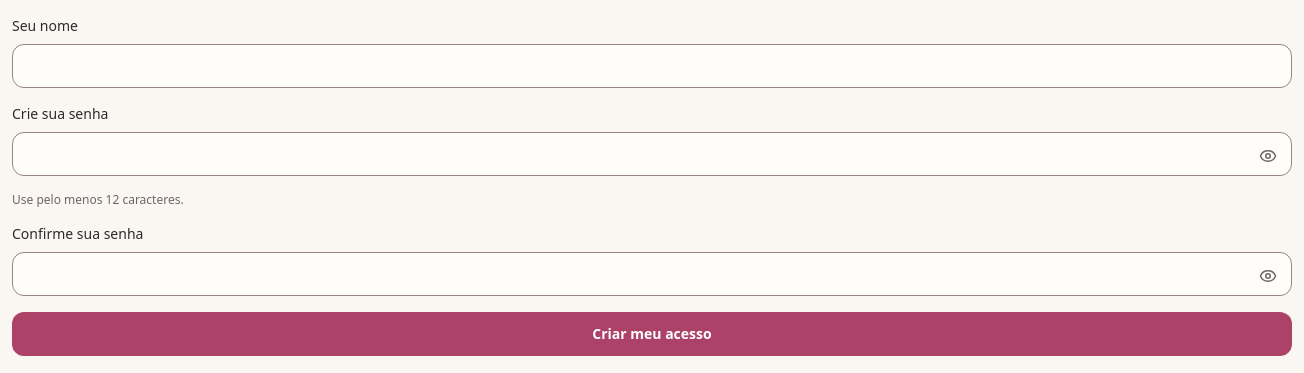
Test: limites e estados adicionais › aceite mostra sucesso e pede login explícito
The image size is (1304, 373).
In the field labelled "Seu nome": (652, 66) [12,44,1292,88], type "Nome de teste"
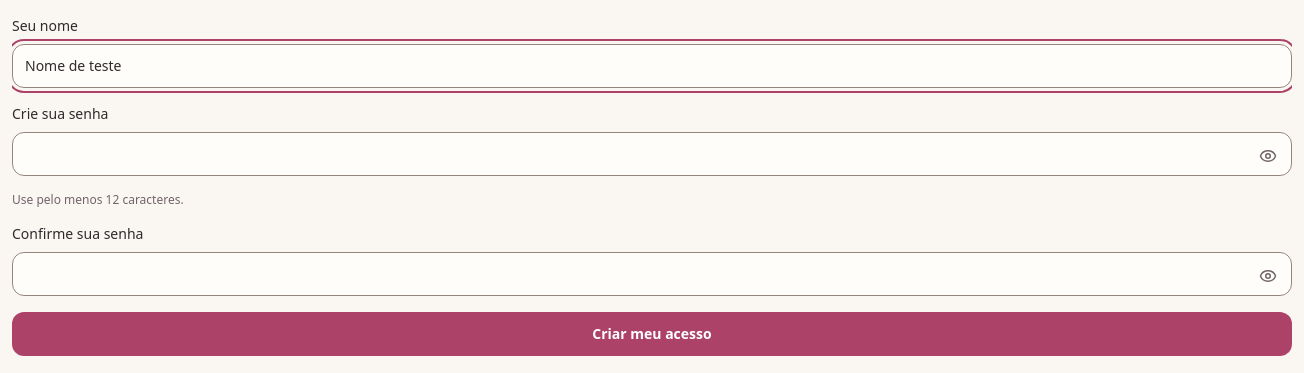
In the password field labelled "Crie sua senha": (652, 154) [12,132,1292,176], type "password-example"
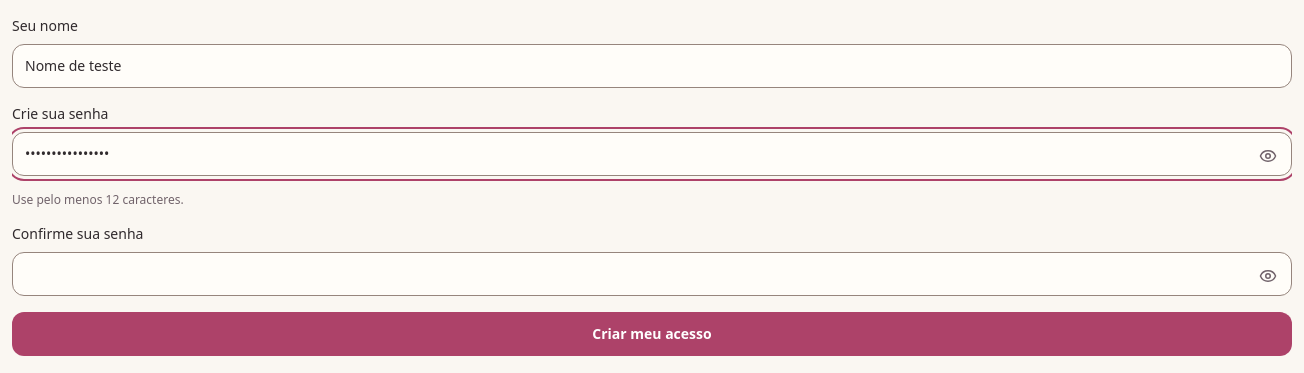
In the password field labelled "Confirme sua senha": (652, 274) [12,252,1292,296], type "password-example"
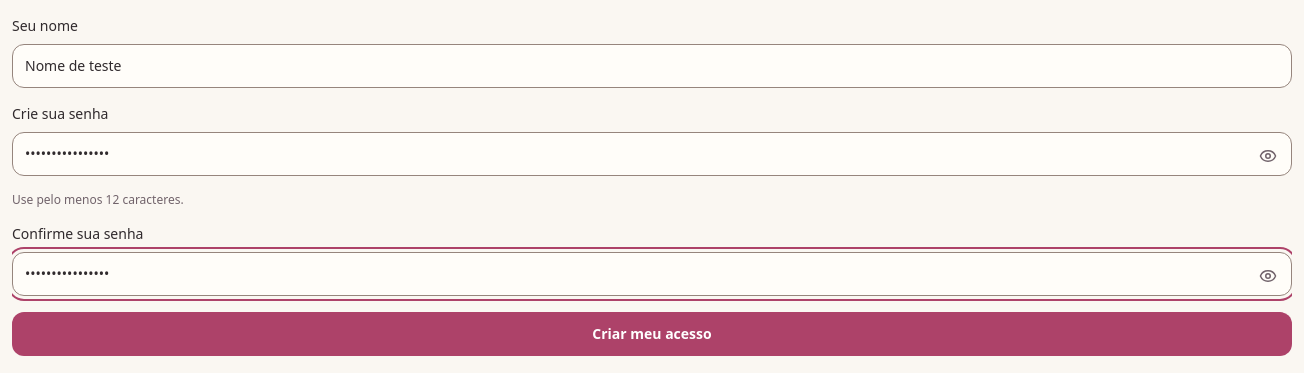
Click the button "Criar meu acesso": (652, 334) [12,312,1292,356]
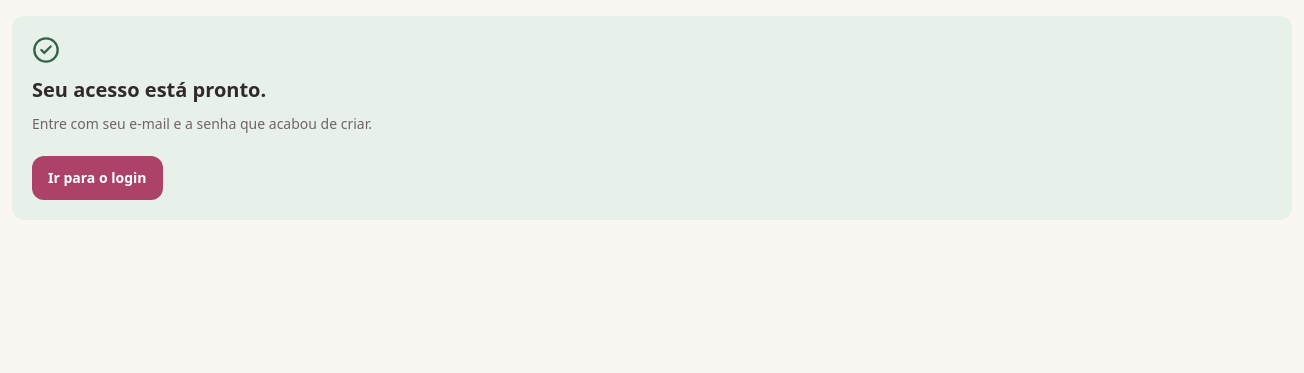
Expected: the link "Ir para o login" is shown, [32,156,162,200]
